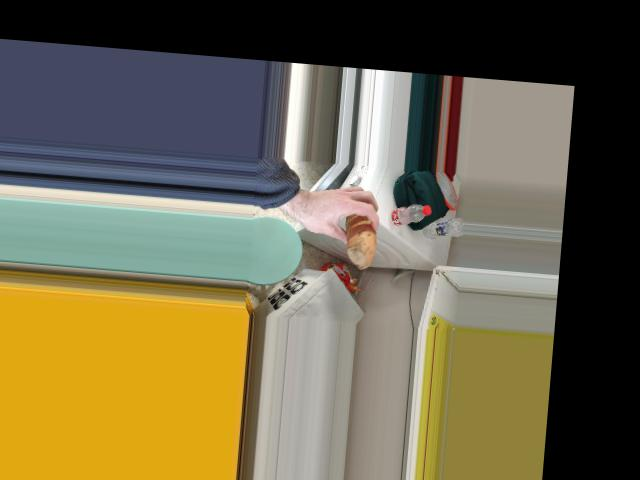sweet_potato: (328, 199, 374, 253)
